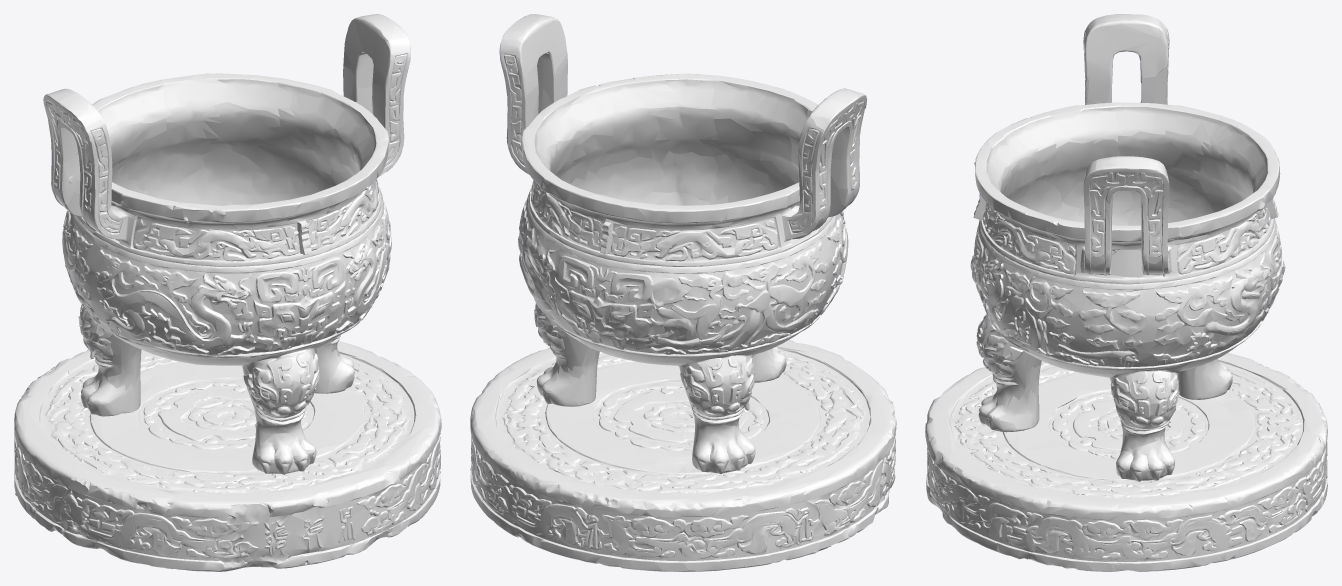
The model's file is incense_ding.glb.
3 views of the same model, side by side, from view 1: azimuth 30°, elevation 25°; view 2: azimuth 150°, elevation 25°; view 3: azimuth 270°, elevation 25° (orthographic). The views are drawn at different scales.
Parts seen in each view (by area): view 1: Mesh_0; view 2: Mesh_0; view 3: Mesh_0.
Boxes of the visible parts, bbox=[...] form: Mesh_0: bbox=[14, 14, 441, 571]; Mesh_0: bbox=[470, 14, 896, 571]; Mesh_0: bbox=[925, 14, 1327, 571].
Bounding box in the file's own units: 2.37 × 2.6 × 2.37.
1 material, 1 textured.
